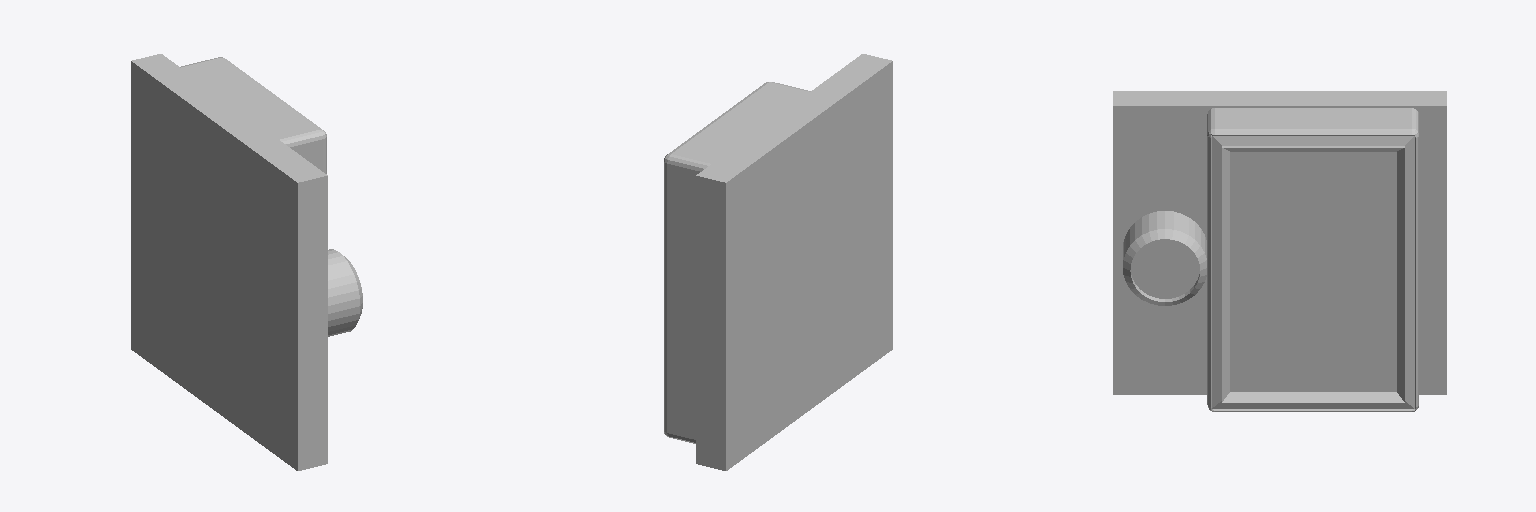
File: timer.obj
The picture shows the model from 3 angles: view 1: azimuth 30°, elevation 25°; view 2: azimuth 150°, elevation 25°; view 3: azimuth 270°, elevation 25°; orthographic projection.
Visible parts, largest first — view 1: backpanel_Cube.001, Cube_Cube.004, Cylinder_Cylinder.002; view 2: backpanel_Cube.001, Cube_Cube.004; view 3: Cube_Cube.004, backpanel_Cube.001, Cylinder_Cylinder.002.
Boxes of the visible parts, x1,y1,x2,y2 form: backpanel_Cube.001: [131, 54, 327, 470]; Cube_Cube.004: [180, 57, 326, 173]; Cylinder_Cylinder.002: [328, 249, 362, 336]; backpanel_Cube.001: [696, 54, 892, 470]; Cube_Cube.004: [664, 82, 810, 443]; Cube_Cube.004: [1207, 108, 1418, 411]; backpanel_Cube.001: [1113, 91, 1446, 394]; Cylinder_Cylinder.002: [1123, 211, 1206, 305].
Bounding box in the file's own units: 0.0054 × 0.018 × 0.0189.